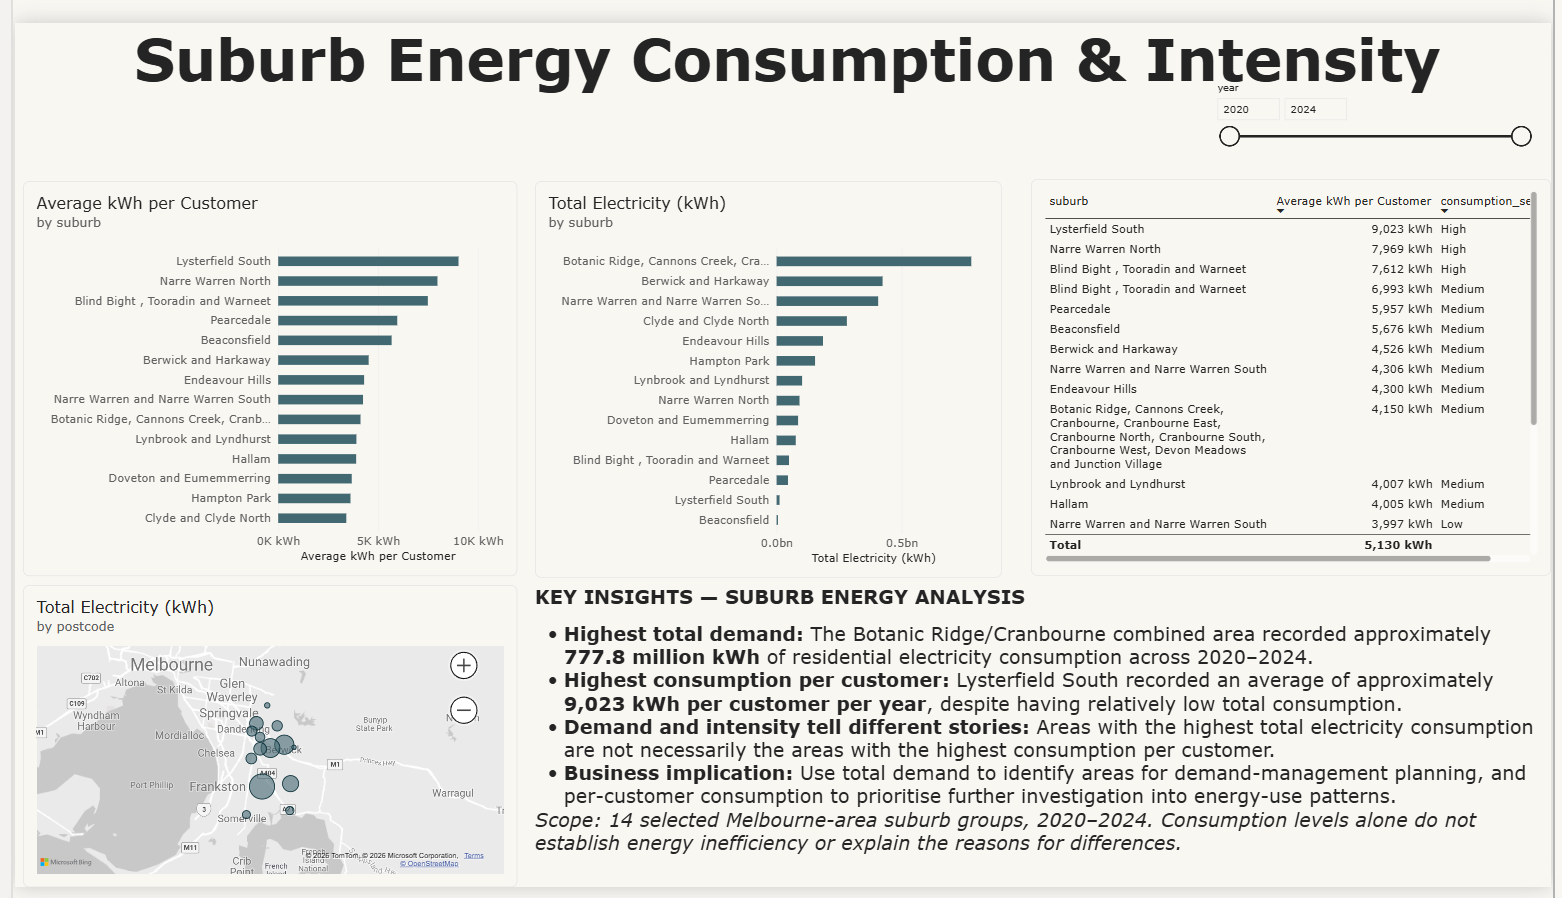

The dashboard page shown, as its layout file describes it:
{"tool":"powerbi","page":{"name":"Suburb Analysis","canvas":[1920,1080],"ordinal":1},"visuals":[{"type":"textbox","box":[9.2,0,1910.8,181.4],"z":0},{"type":"clusteredBarChart","fields":{"Category":["Energy Analysis.suburb"],"Y":["Energy Analysis.Total Electricity (kWh)"]},"box":[650,197.5,583.3,496.1],"z":1000},{"type":"clusteredBarChart","fields":{"Category":["Energy Analysis.suburb"],"Y":["Energy Analysis.Average kWh per Customer"]},"box":[9.2,197.5,617.8,493.8],"z":2000},{"type":"slicer","fields":{"Values":["Energy Analysis.year"]},"box":[1495.1,73.5,404.2,96.5],"z":3000},{"type":"tableEx","fields":{"Values":["Energy Analysis.suburb","Energy Analysis.Average kWh per Customer","Energy Analysis.consumption_segment"]},"box":[1270,195.2,650,496.1],"z":4000},{"type":"map","fields":{"Category":["Energy Analysis.postcode"],"Size":["Energy Analysis.Total Electricity (kWh)"]},"box":[9,702,618,378],"z":4001},{"type":"textbox","box":[650,702.8,1249.4,376.7],"z":4002}]}

Visuals, with their boxes in screenshot pixels (x1, y1, x2, y2), scaled from the page's 1920x1080 canvas onto the 1562x898 screenshot:
textbox: x1=7 y1=0 x2=1561 y2=151
clusteredBarChart - Energy Analysis.suburb x Energy Analysis.Total Electricity (kWh): x1=529 y1=164 x2=1003 y2=577
clusteredBarChart - Energy Analysis.suburb x Energy Analysis.Average kWh per Customer: x1=7 y1=164 x2=510 y2=575
slicer - Energy Analysis.year: x1=1216 y1=61 x2=1545 y2=141
tableEx - Energy Analysis.suburb x Energy Analysis.Average kWh per Customer: x1=1033 y1=162 x2=1561 y2=575
map - Energy Analysis.postcode x Energy Analysis.Total Electricity (kWh): x1=7 y1=584 x2=510 y2=897
textbox: x1=529 y1=584 x2=1545 y2=897
